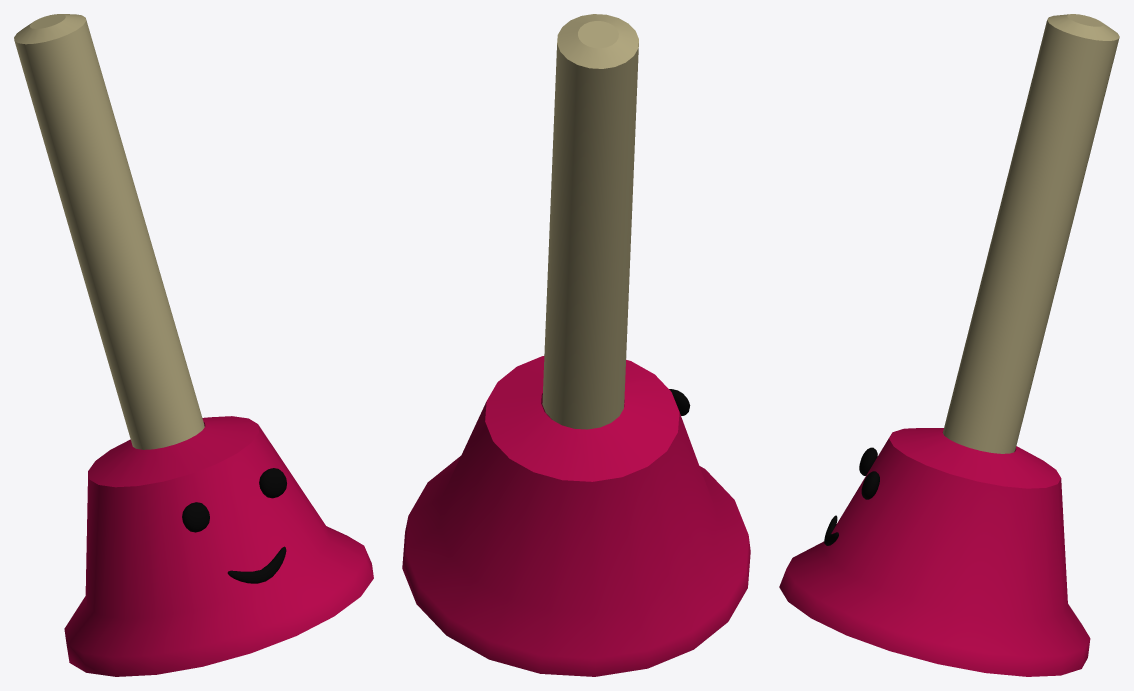
Rendered from beruyureru.fbx.
3 views of the same model, side by side, from view 1: azimuth 30°, elevation 25°; view 2: azimuth 150°, elevation 25°; view 3: azimuth 270°, elevation 25° (orthographic). The views are drawn at different scales.
Parts seen in each view (by area): view 1: pasted__hidari_me1, pasted__bou; view 2: pasted__hidari_me1, pasted__bou; view 3: pasted__hidari_me1, pasted__bou.
Part boxes in pixels (x1,y1,x2,y2): pasted__hidari_me1: (64, 416, 373, 676); pasted__bou: (14, 14, 204, 449); pasted__hidari_me1: (402, 356, 750, 676); pasted__bou: (542, 14, 638, 429); pasted__hidari_me1: (779, 428, 1090, 676); pasted__bou: (943, 14, 1119, 453).
Bounding box in the file's own units: 4.08 × 8.63 × 4.42.
